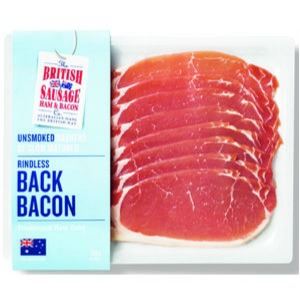bacon: (121, 61, 269, 243)
